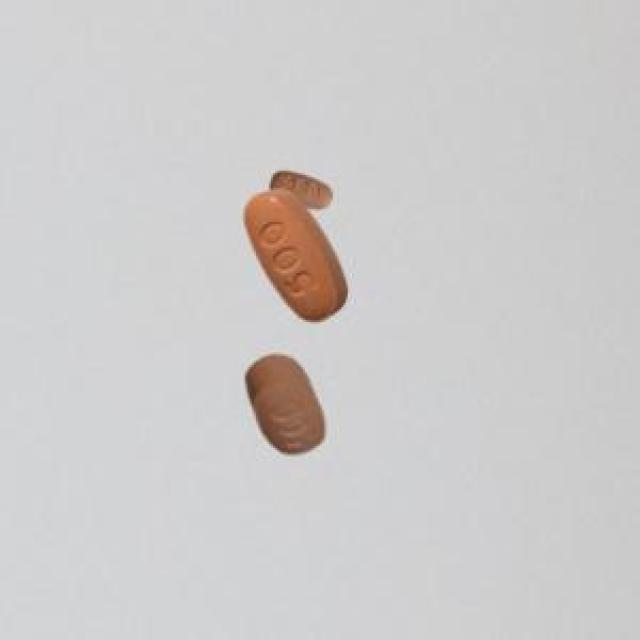Biogesic: (234, 160, 368, 328), (232, 347, 345, 468)
